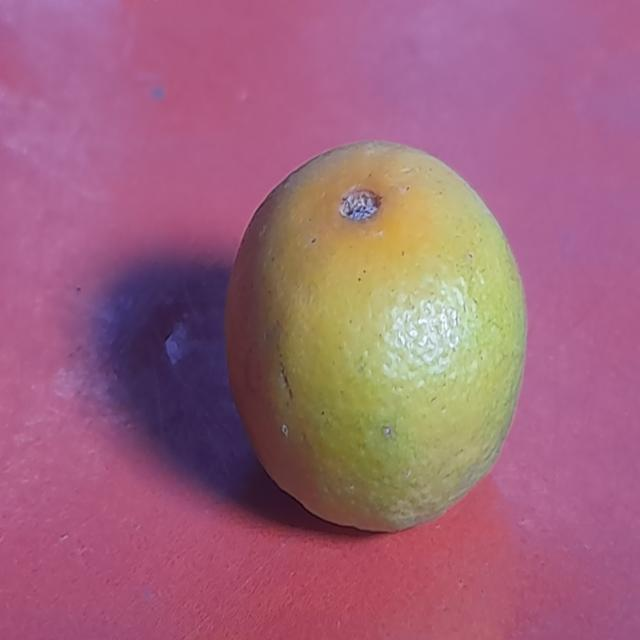greening: (218, 142, 533, 530)
